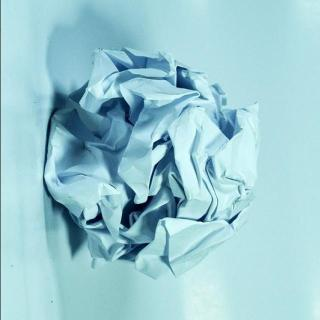Anorganik: (42, 44, 266, 278)
